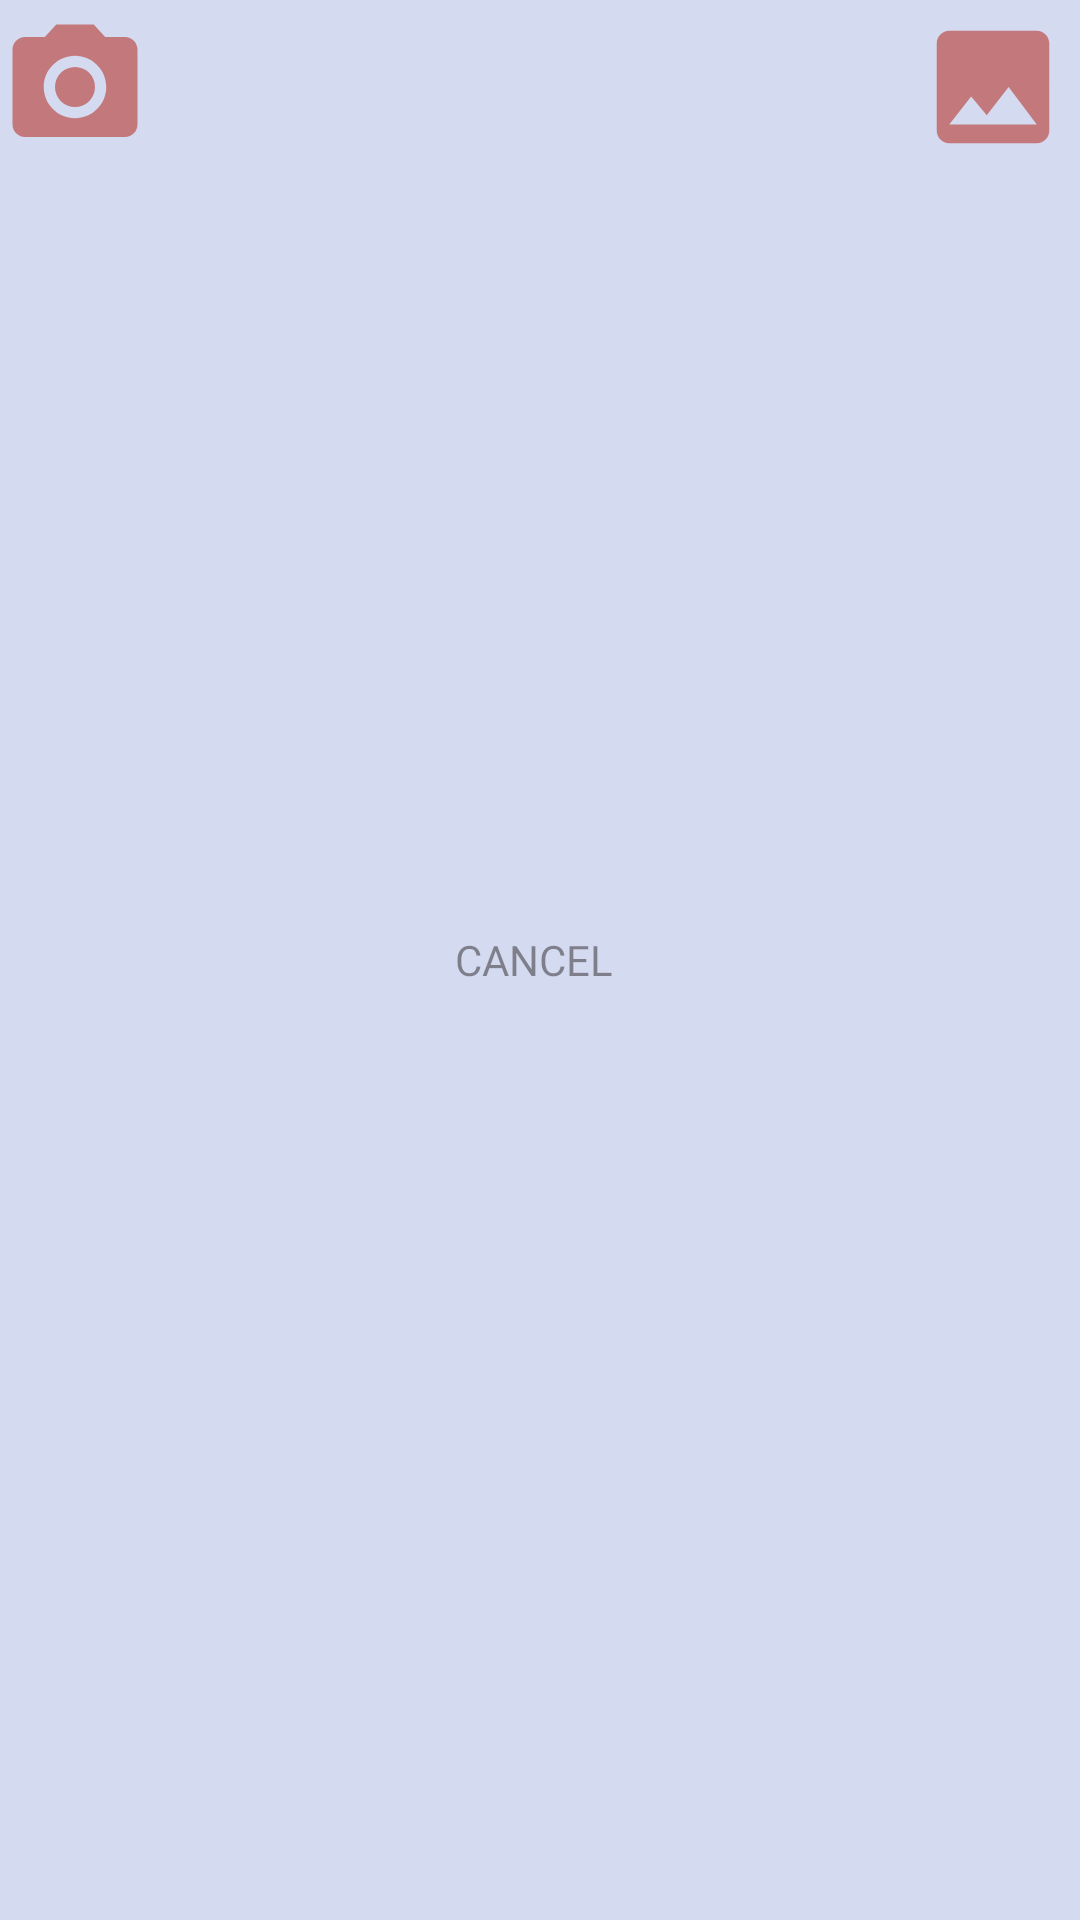

Screen size 1080px×1920px. Icon name, then its box in pixels as (x1, y1, x2, y2):
camericon: (12, 24, 138, 137)
galleryicon: (936, 30, 1050, 144)
